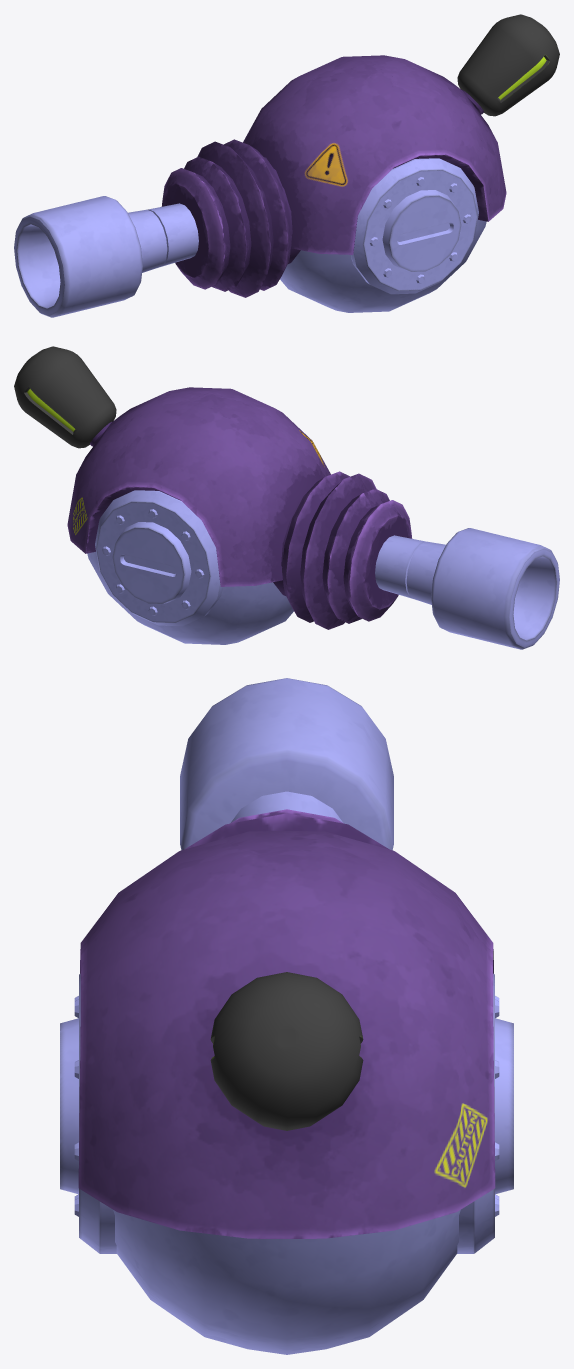
File: Laser Gun ONE OBJECT.fbx
The picture shows the model from 3 angles, top to bottom: view 1: azimuth 30°, elevation 25°; view 2: azimuth 150°, elevation 25°; view 3: azimuth 270°, elevation 25°; orthographic projection. The views are drawn at different scales.
Parts seen in each view (by area): view 1: Cylinder.014; view 2: Cylinder.014; view 3: Cylinder.014.
Boxes of the visible parts, x1=… form: Cylinder.014: x1=14, y1=14, x2=559, y2=317; Cylinder.014: x1=14, y1=346, x2=559, y2=649; Cylinder.014: x1=60, y1=678, x2=513, y2=1354.
Size of the model in its own units: 320 by 148 by 122.
1 material, 1 textured.
